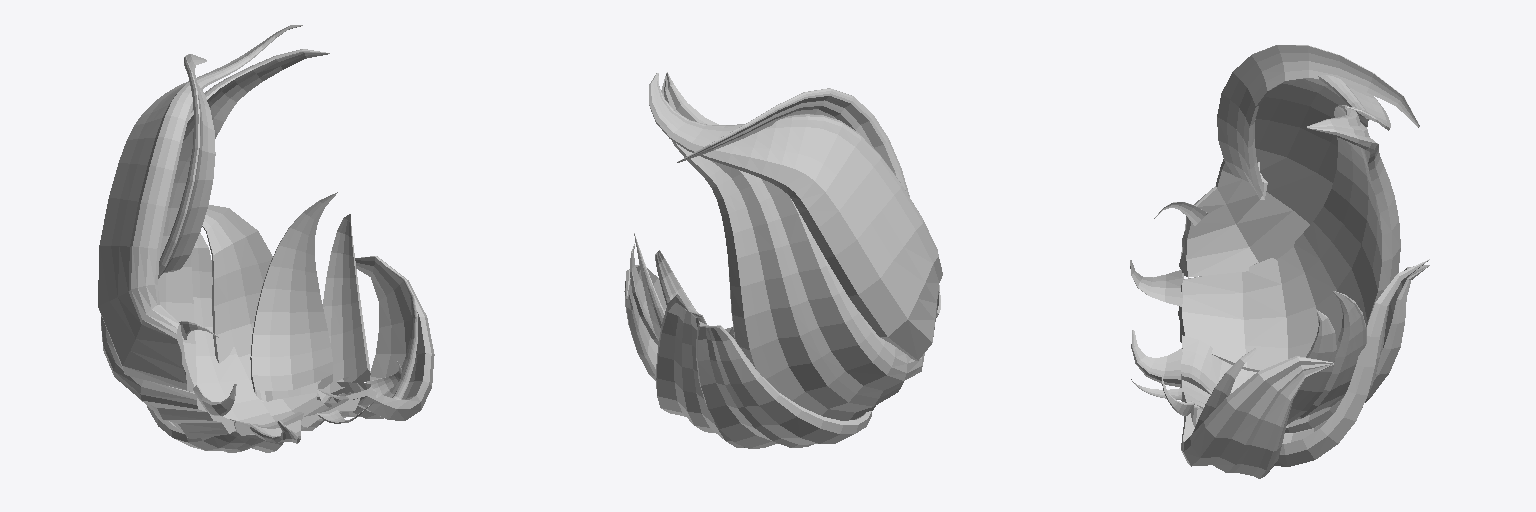
Rendered from hair_run0018.obj.
3 views of the same model, side by side, from view 1: azimuth 30°, elevation 25°; view 2: azimuth 150°, elevation 25°; view 3: azimuth 270°, elevation 25° (orthographic).
Parts seen in each view (by area): view 1: NurbsPath.012; view 2: NurbsPath.012; view 3: NurbsPath.012.
Boxes of the visible parts, box(x1,y1,x2,y2) form: NurbsPath.012: box(98, 25, 434, 452); NurbsPath.012: box(624, 72, 942, 448); NurbsPath.012: box(1130, 45, 1429, 478).
Bounding box in the file's own units: 0.588 × 0.7083 × 0.5127.